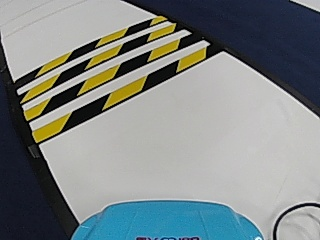bump: (30, 24, 165, 125)
